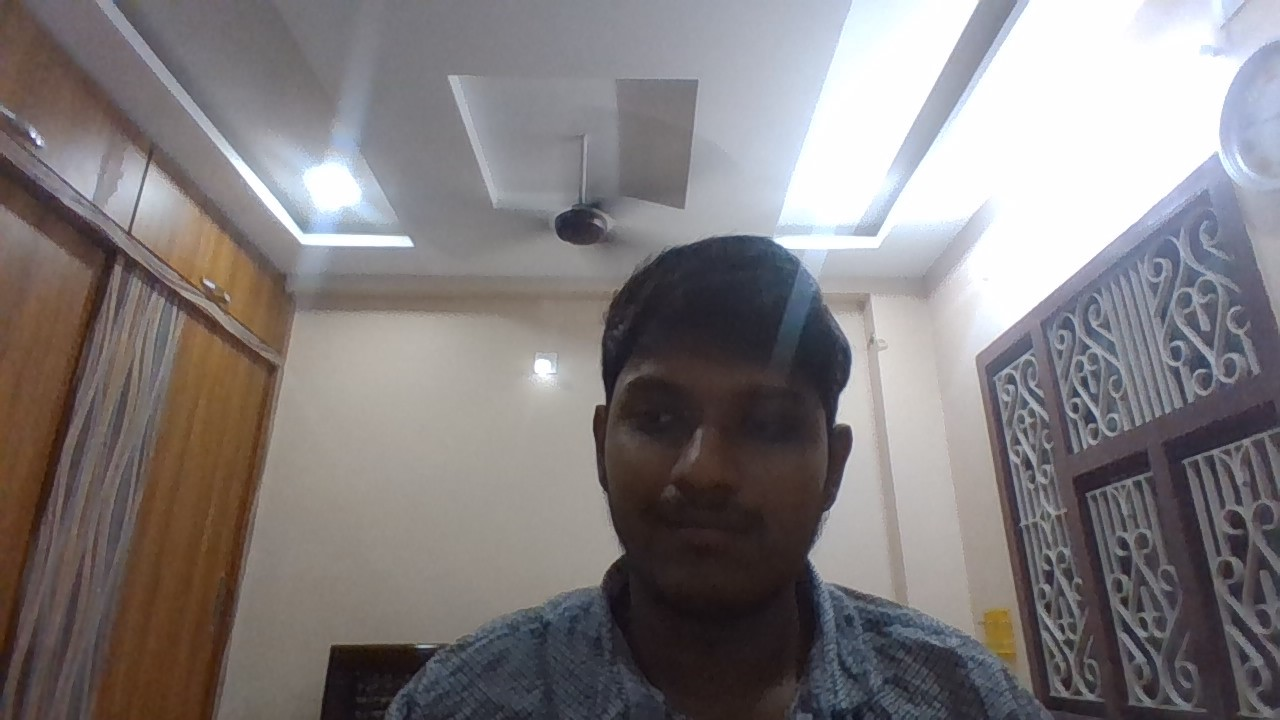person: (487, 175, 1056, 720)
